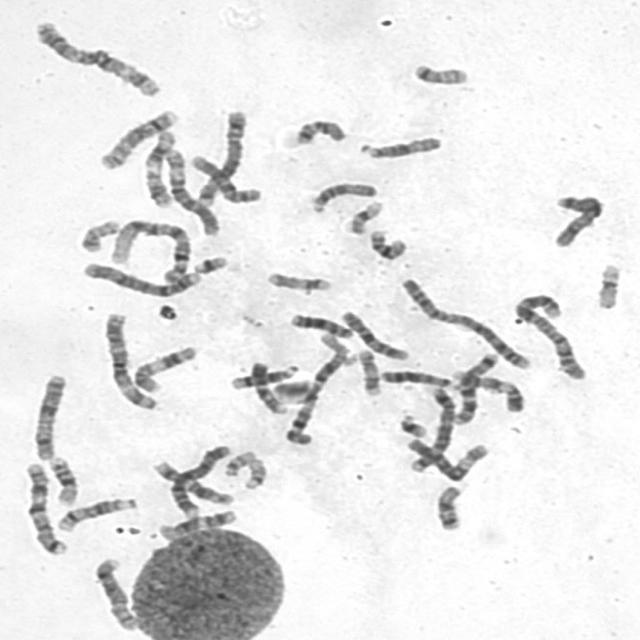A1: (278, 332, 351, 447), (104, 215, 194, 283)
A2: (394, 273, 534, 371), (508, 289, 590, 382)
A3: (27, 15, 164, 98), (98, 308, 162, 412)
B4: (165, 440, 234, 519), (76, 257, 204, 299)
B5: (190, 106, 249, 208), (404, 383, 458, 474)
C10: (186, 150, 264, 204), (336, 306, 410, 362)
C11: (128, 341, 200, 394), (138, 126, 180, 209)
C12: (147, 456, 237, 506), (152, 505, 240, 542)
C6: (160, 145, 221, 237), (402, 432, 491, 482)
C7: (17, 458, 70, 556), (448, 347, 503, 426)
C8: (92, 104, 180, 171), (88, 554, 139, 632)
C9: (445, 363, 527, 414), (246, 356, 291, 416)
D13: (376, 364, 460, 392), (285, 309, 355, 340)
D14: (52, 492, 140, 533), (226, 360, 302, 390)
D15: (304, 178, 380, 214), (355, 132, 444, 160)
E16: (43, 452, 81, 507), (364, 224, 410, 262)
E17: (260, 267, 334, 294), (352, 344, 383, 397)
E18: (288, 114, 348, 146), (429, 481, 466, 532)
F19: (338, 195, 386, 236), (590, 259, 624, 311)
F20: (74, 214, 122, 253), (407, 58, 471, 87)
G21: (393, 410, 431, 440), (188, 251, 230, 276)
G22: (218, 447, 258, 477), (237, 454, 269, 491)
X: (28, 370, 70, 462), (546, 190, 607, 249)
